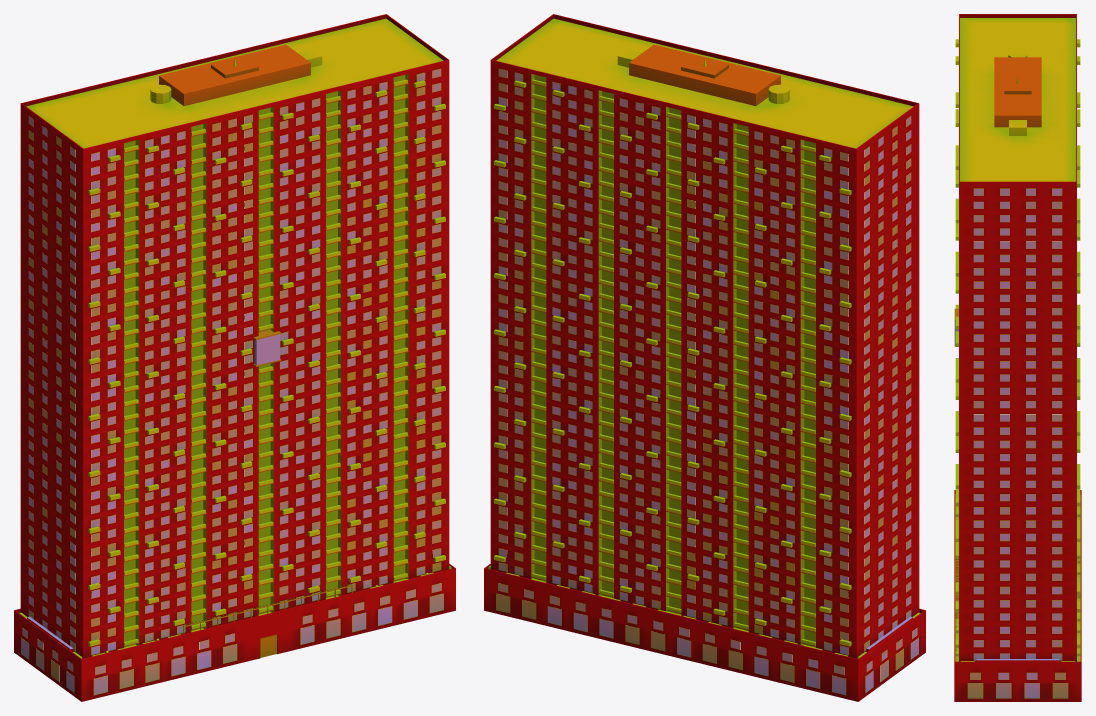
File: kanopi.glb
The picture shows the model from 3 angles, left to right: view 1: azimuth 30°, elevation 25°; view 2: azimuth 150°, elevation 25°; view 3: azimuth 270°, elevation 25°; orthographic projection. The views are drawn at different scales.
Parts seen in each view (by area): view 1: kanopi__tower__LOD0; view 2: kanopi__tower__LOD0; view 3: kanopi__tower__LOD0.
Boxes of the visible parts, x1,y1,x2,y2 form: kanopi__tower__LOD0: (14, 14, 455, 701); kanopi__tower__LOD0: (484, 14, 925, 701); kanopi__tower__LOD0: (954, 14, 1081, 701).
Size of what is drawn, in the model's own units: 88.97 by 130 by 27.88.
